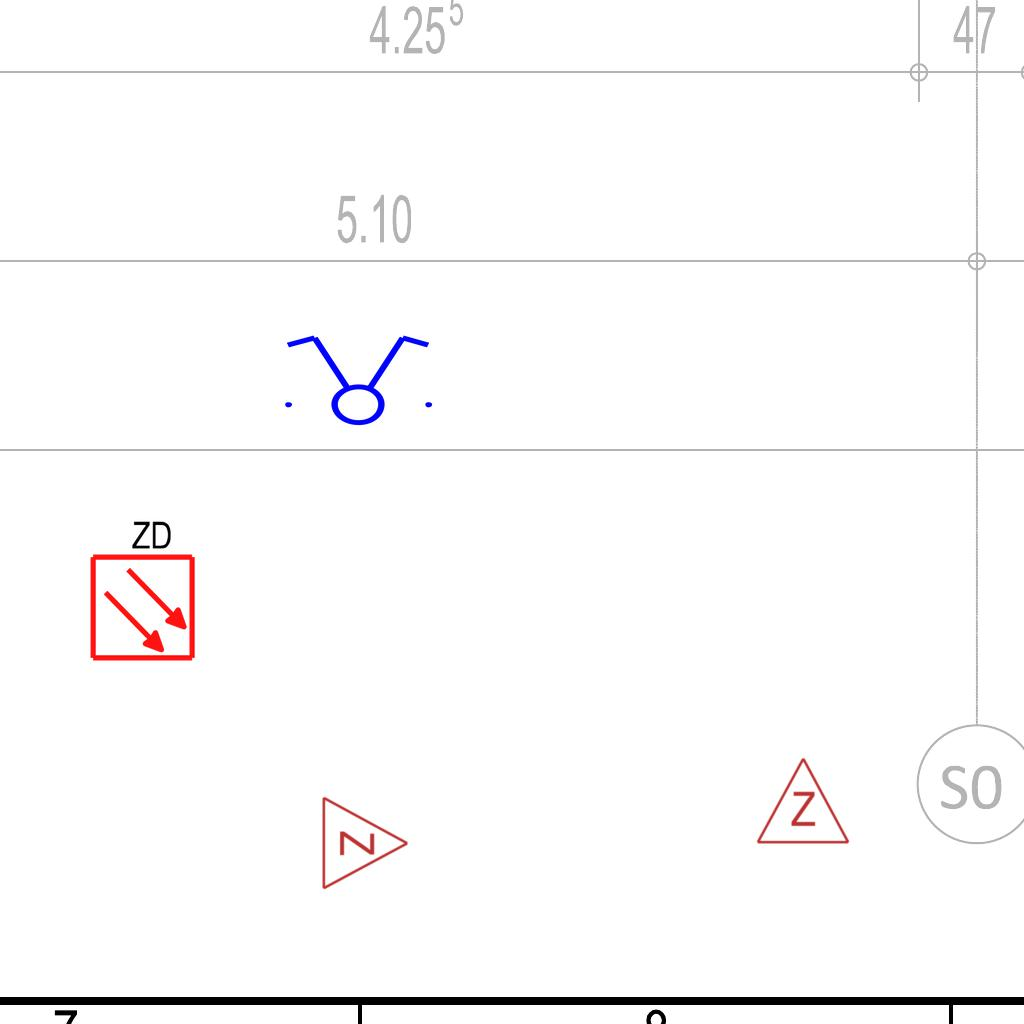Serienschalter: (273, 331, 441, 427)
ZD_Melder_in_Zwischendecke_mit_Revisionsoeffnung_mind_40_x_40_cm: (84, 514, 198, 663)
Zimmersignalleuchte: (753, 751, 851, 851), (315, 793, 415, 891)
